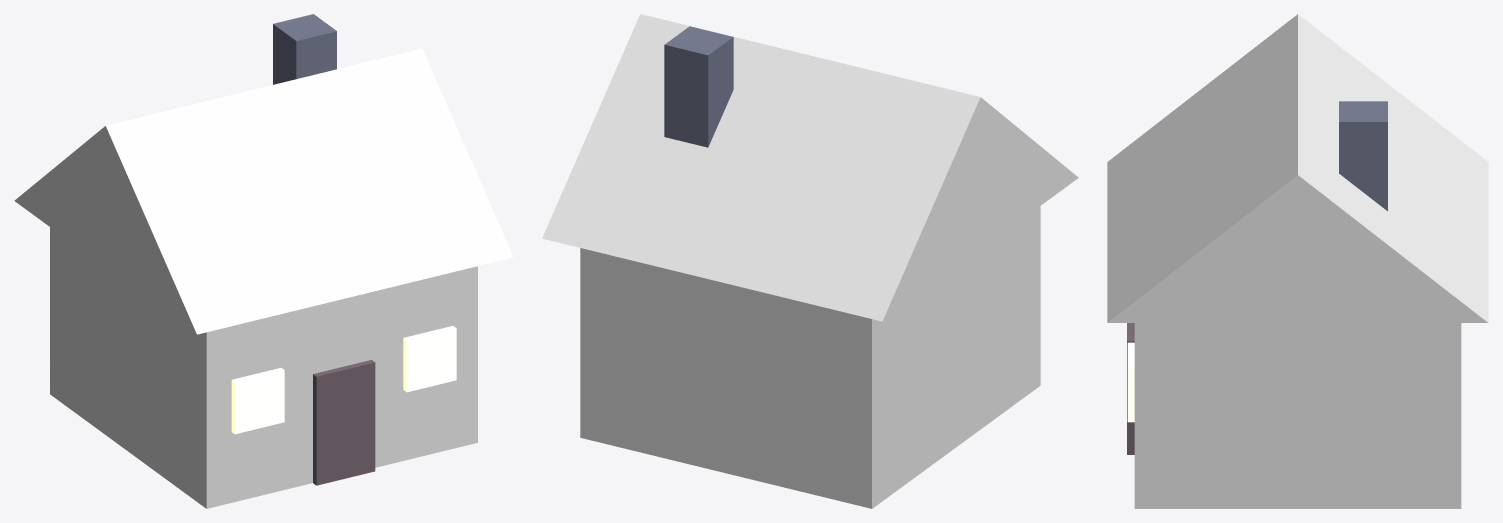
File: tier_4_common.glb
3 renders of one model, left to right at view 1: azimuth 30°, elevation 25°; view 2: azimuth 150°, elevation 25°; view 3: azimuth 270°, elevation 25°, orthographic. The views are drawn at different scales.
Visible parts, largest first — view 1: Roof, Body, Door, Chimney, Window1, Window0; view 2: Roof, Body, Chimney; view 3: Roof, Body, Chimney, Window1, Door.
Part boxes in pixels (x1,y1,x2,y2): Roof: (14, 48, 513, 334); Body: (50, 227, 477, 508); Door: (313, 360, 375, 485); Chimney: (273, 14, 336, 84); Window1: (403, 326, 456, 392); Window0: (231, 368, 284, 434); Roof: (542, 14, 1078, 321); Body: (580, 206, 1040, 508); Chimney: (664, 26, 733, 147); Roof: (1107, 14, 1488, 322); Body: (1134, 323, 1461, 508); Chimney: (1339, 101, 1387, 211); Window1: (1127, 342, 1134, 422); Door: (1127, 323, 1134, 454).
Bounding box in the file's own units: 7 × 7.4 × 7.
